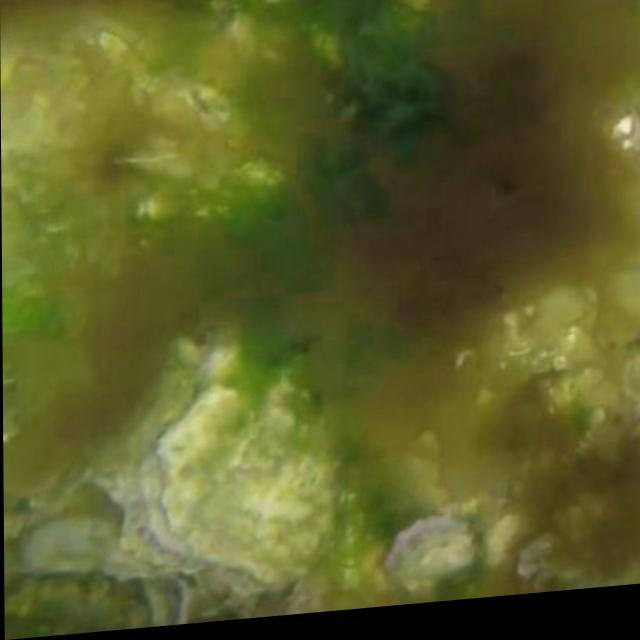Oyster-Closed: (144, 384, 335, 585)
Oyster-Indeterminate: (15, 513, 155, 579)
Oyster-Open: (389, 515, 478, 595), (145, 579, 194, 627)
